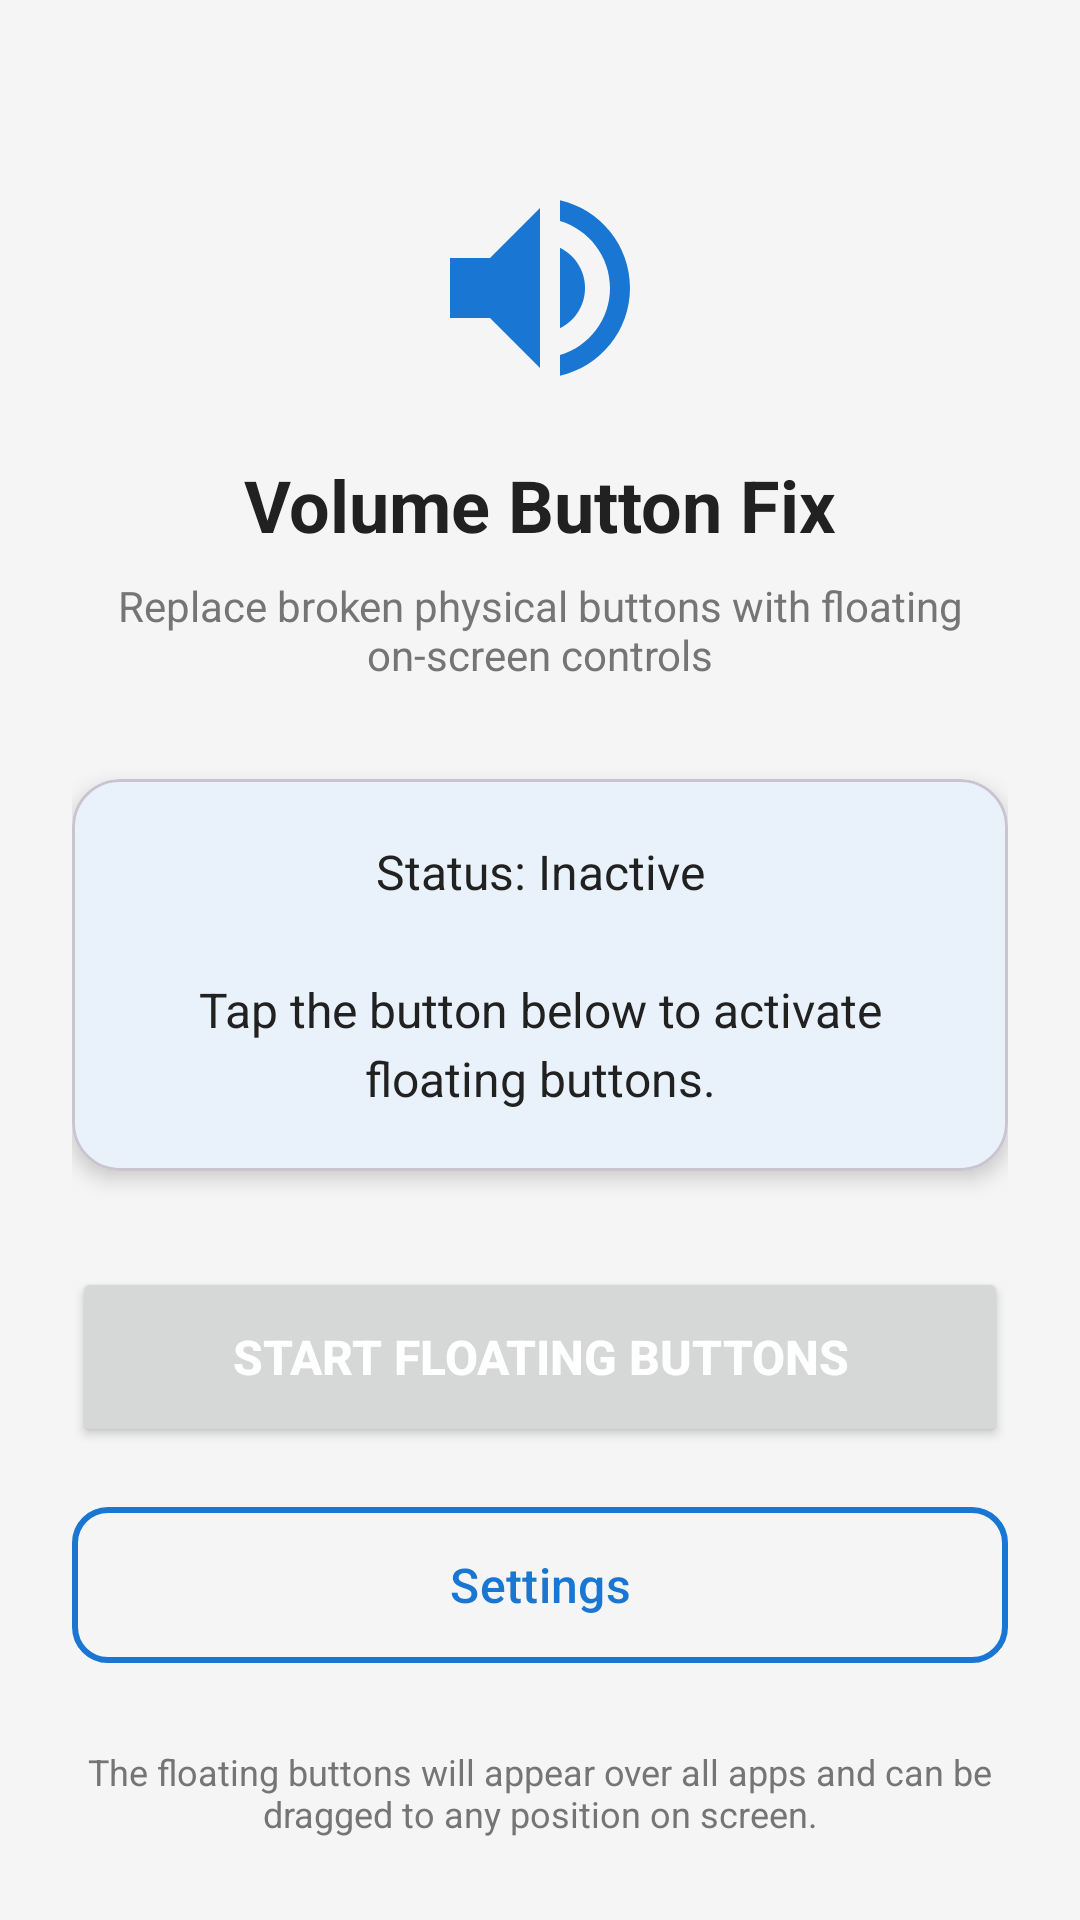

Where icons sit on this 1080×1920 app screen, as (x1, y1, x2, y2):
volume up: (450, 200, 630, 376)
